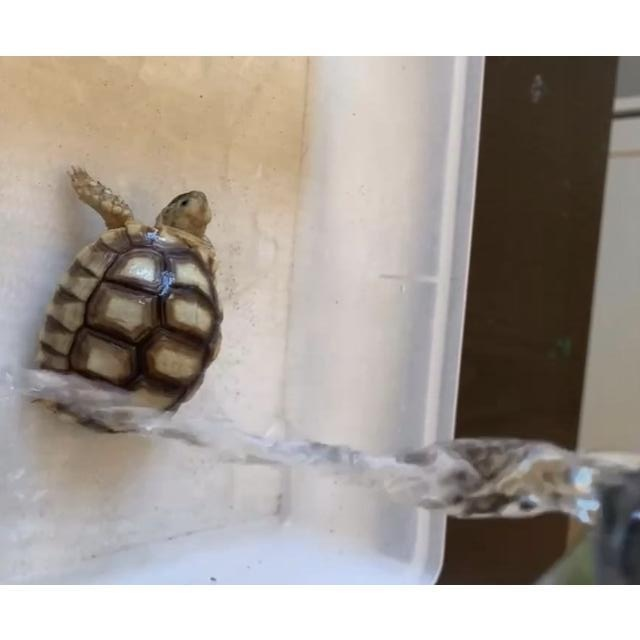turtle: (35, 167, 222, 435)
